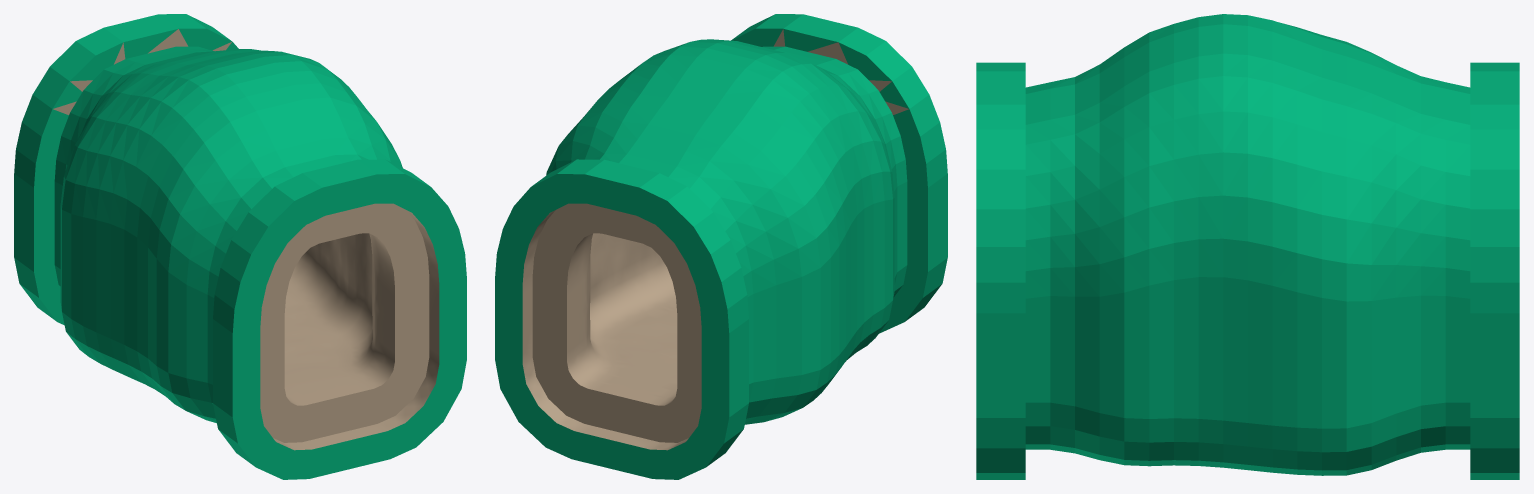
The model's file is TT_Straight_Wide.fbx.
3 renders of one model, left to right at view 1: azimuth 30°, elevation 25°; view 2: azimuth 150°, elevation 25°; view 3: azimuth 270°, elevation 25°, orthographic. The views are drawn at different scales.
Parts seen in each view (by area): view 1: TT_Straight_Wide_LOD0; view 2: TT_Straight_Wide_LOD0; view 3: TT_Straight_Wide_LOD0.
Boxes of the visible parts, x1,y1,x2,y2 form: TT_Straight_Wide_LOD0: (14, 14, 466, 479); TT_Straight_Wide_LOD0: (495, 14, 947, 479); TT_Straight_Wide_LOD0: (976, 14, 1519, 479).
Bounding box in the file's own units: 405 × 455 × 550.
